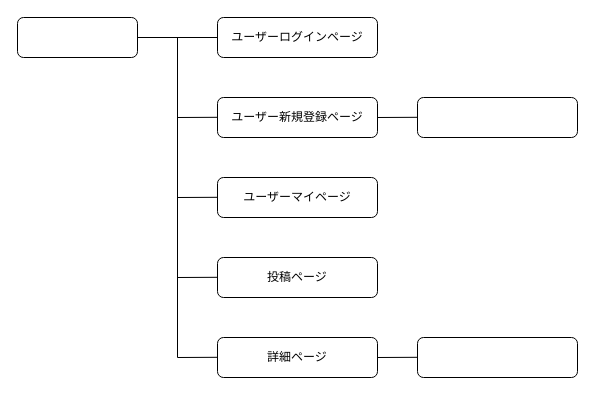
Some shapes in this 595 by 395 pixel diagram are drawn without their labels. Each missing label, with the centre of its shape:
"ペット登録ページ" belongs at [497,117].
"一覧ページ" belongs at [77,37].
"編集ページ" belongs at [497,357].
